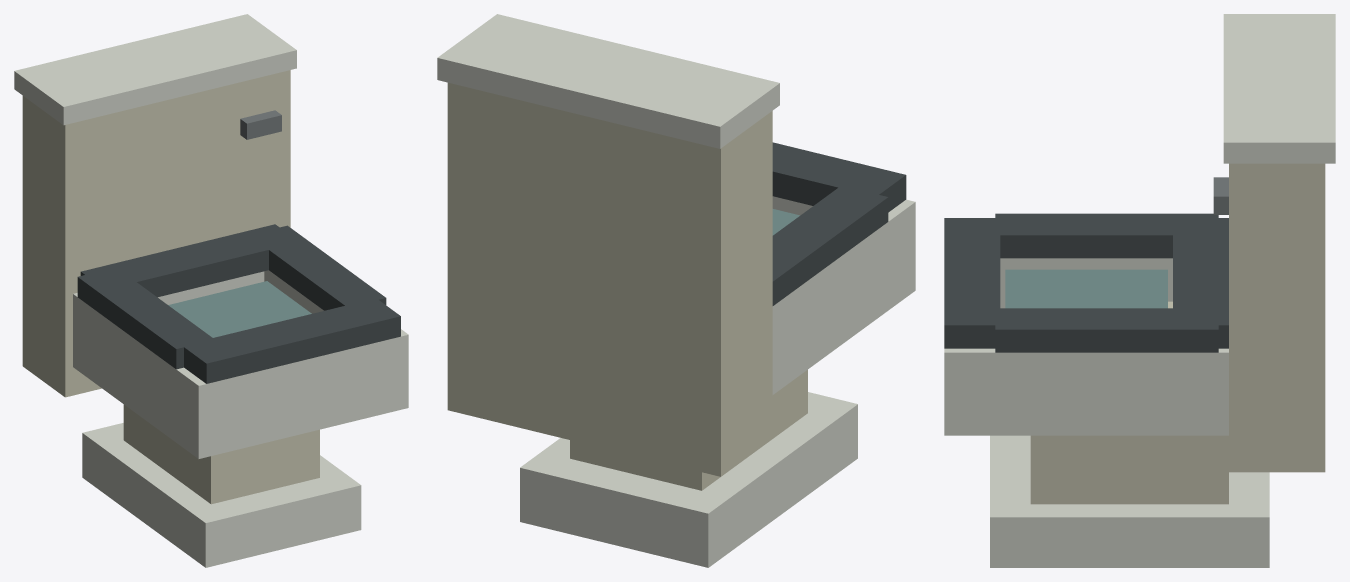
The model's file is CMU3DToilet.glb.
3 views of the same model, side by side, from view 1: azimuth 30°, elevation 25°; view 2: azimuth 150°, elevation 25°; view 3: azimuth 270°, elevation 25° (orthographic). The views are drawn at different scales.
Parts seen in each view (by area): view 1: cistern, pedestal foot, bowl front, cistern lid, seat front, bowl pedestal, seat back, bowl left, seat left, seat right, bowl water, bowl back (+2 smaller); view 2: cistern, pedestal foot, cistern lid, bowl left, seat left, seat front, bowl pedestal, bowl front, bowl back; view 3: cistern, pedestal foot, cistern lid, bowl right, bowl pedestal, seat right, seat left, seat front, bowl water, seat back, bowl front, bowl back (+2 smaller).
Part boxes in pixels (x1,y1,x2,y2): cistern: (22, 70, 290, 397); pedestal foot: (82, 423, 361, 567); bowl front: (176, 329, 408, 458); cistern lid: (14, 14, 296, 125); seat front: (184, 299, 400, 383); bowl pedestal: (123, 404, 319, 504); seat back: (80, 224, 298, 297); bowl left: (93, 309, 176, 442); seat left: (77, 267, 214, 369); seat right: (249, 225, 386, 310); bowl water: (168, 281, 311, 337); bowl back: (73, 271, 264, 381); cistern: (447, 82, 772, 476); pedestal foot: (520, 392, 857, 567); cistern lid: (437, 14, 779, 148); bowl left: (787, 222, 888, 383); seat left: (772, 187, 888, 305); seat front: (772, 142, 906, 212); bowl pedestal: (570, 369, 807, 490); bowl front: (772, 196, 915, 310); bowl back: (772, 296, 787, 394); cistern: (1229, 163, 1325, 472); pedestal foot: (990, 435, 1269, 567); cistern lid: (1223, 14, 1335, 163); bowl right: (995, 352, 1183, 435); bowl pedestal: (1030, 301, 1228, 504); seat right: (995, 308, 1218, 352); seat left: (995, 213, 1218, 258); seat front: (944, 218, 1000, 348); bowl water: (1005, 269, 1167, 308); seat back: (1173, 218, 1228, 348); bowl front: (944, 348, 995, 435); bowl back: (1183, 348, 1228, 435).
Bounding box in the file's own units: 0.6 × 0.97 × 0.77.
